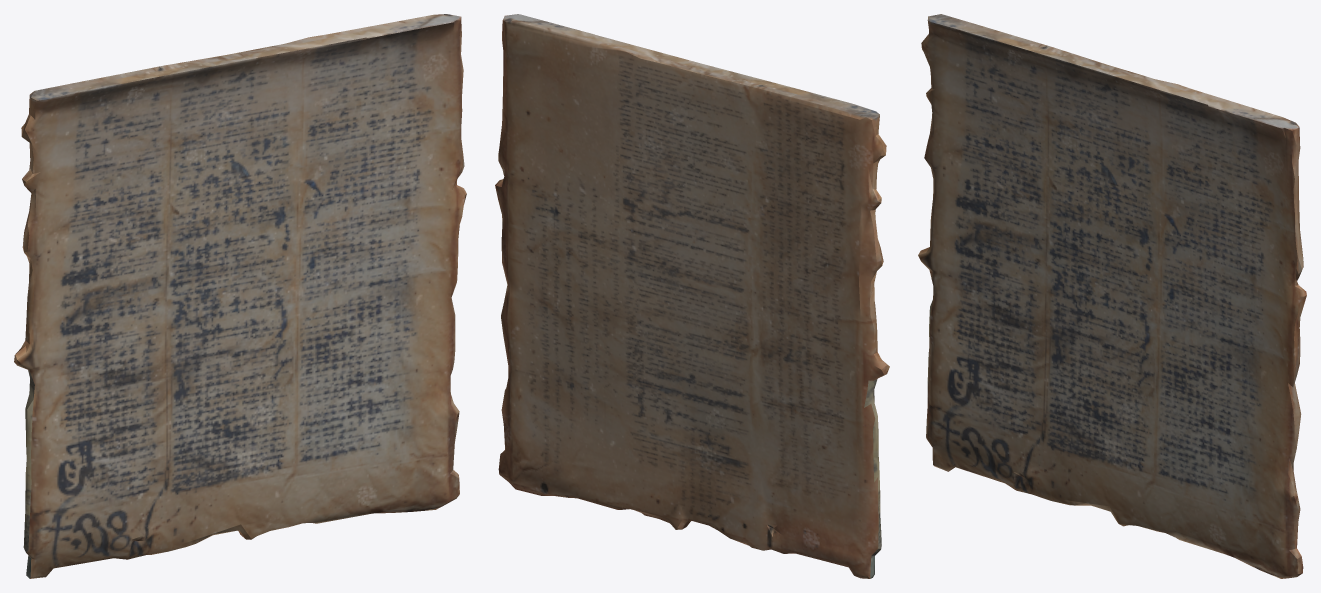
The model's file is book_001.fbx.
3 renders of one model, left to right at view 1: azimuth 30°, elevation 25°; view 2: azimuth 150°, elevation 25°; view 3: azimuth 330°, elevation 25°, orthographic. The views are drawn at different scales.
Parts seen in each view (by area): view 1: book_001; view 2: book_001; view 3: book_001.
Part boxes in pixels (box(x1,y1,x2,y2)): book_001: box(14, 14, 466, 578); book_001: box(495, 14, 889, 578); book_001: box(918, 14, 1306, 578).
Size of the model in its own units: 0.0432 by 0.3527 by 0.3884.
1 material, 1 textured.
